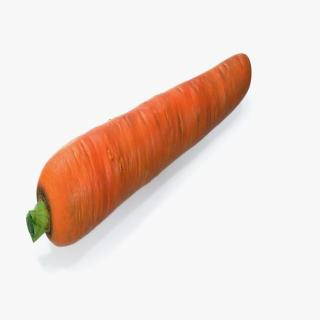carrot: (25, 52, 253, 256)
